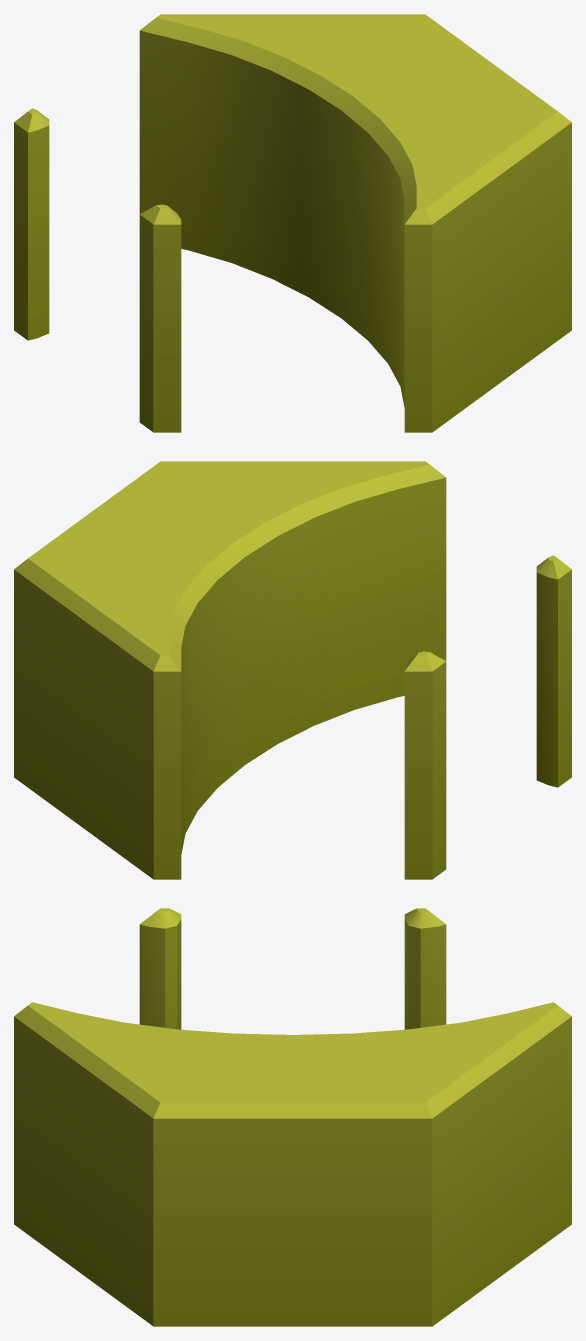
The model's file is kaykit-medieval-hexagon-pack-hex-river-g-waterless.glb.
3 renders of one model, top to bottom at view 1: azimuth 30°, elevation 25°; view 2: azimuth 150°, elevation 25°; view 3: azimuth 270°, elevation 25°, orthographic.
Parts seen in each view (by area): view 1: hex_river_G_waterless; view 2: hex_river_G_waterless; view 3: hex_river_G_waterless.
Part boxes in pixels (x1,y1,x2,y2): hex_river_G_waterless: (14, 14, 571, 432); hex_river_G_waterless: (14, 461, 571, 879); hex_river_G_waterless: (14, 908, 571, 1326).
Bounding box in the file's own units: 2 × 1 × 2.31.
Materials: 1 (1 with a texture image).
